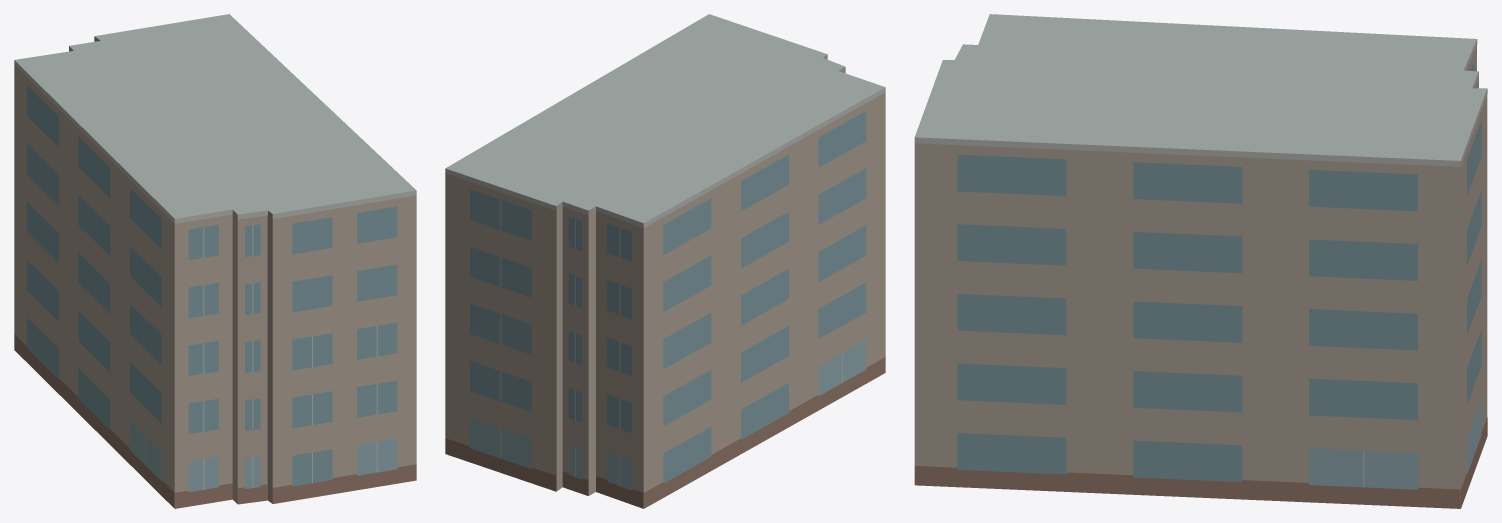
The model's file is survey-upis-32739041.glb.
3 views of the same model, side by side, from view 1: azimuth 30°, elevation 25°; view 2: azimuth 150°, elevation 25°; view 3: azimuth 270°, elevation 25° (orthographic). The views are drawn at different scales.
Parts seen in each view (by area): view 1: survey-upis-32739041.tmp; view 2: survey-upis-32739041.tmp; view 3: survey-upis-32739041.tmp.
Boxes of the visible parts, x1,y1,x2,y2 form: survey-upis-32739041.tmp: (14,14,416,508); survey-upis-32739041.tmp: (445,14,885,508); survey-upis-32739041.tmp: (914,14,1487,508).
Bounding box in the file's own units: 12.96 × 14.3 × 21.35.
